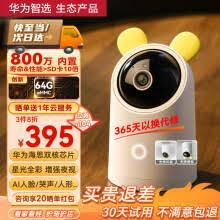maru: (112, 44, 191, 114)
